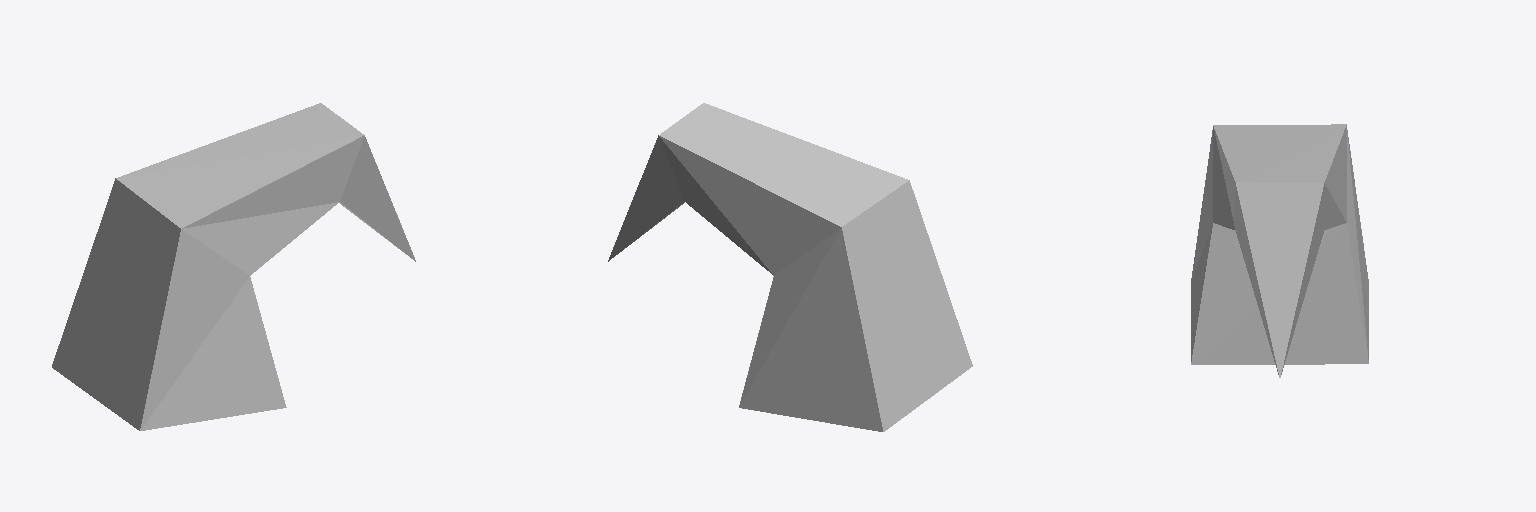
File: skeletal_000014.obj
The picture shows the model from 3 angles: view 1: azimuth 30°, elevation 25°; view 2: azimuth 150°, elevation 25°; view 3: azimuth 270°, elevation 25°; orthographic projection.
Visible parts, largest first — view 1: Cube; view 2: Cube; view 3: Cube.
Part boxes in pixels (left/top/right/bottom): Cube: left=52, top=103, right=415, bottom=430; Cube: left=608, top=103, right=972, bottom=431; Cube: left=1191, top=124, right=1368, bottom=377.
Bounding box in the file's own units: 4.17 × 2.87 × 2.